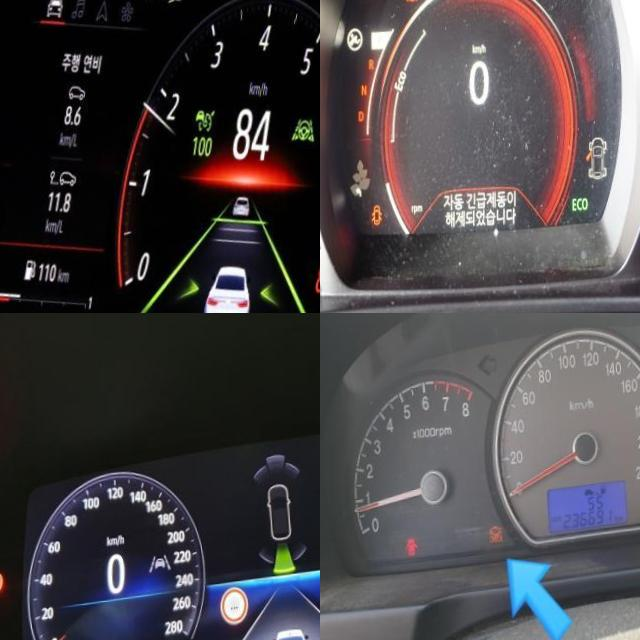Doors: (369, 207, 380, 230), (403, 540, 416, 559)
LaneCenteringOff: (290, 122, 316, 152)
Low beam: (166, 0, 186, 11)
SideLamp: (144, 0, 166, 6)
